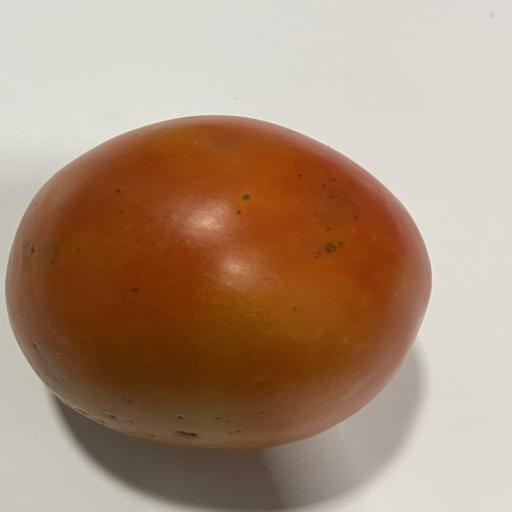ripe: (6, 116, 431, 449)
